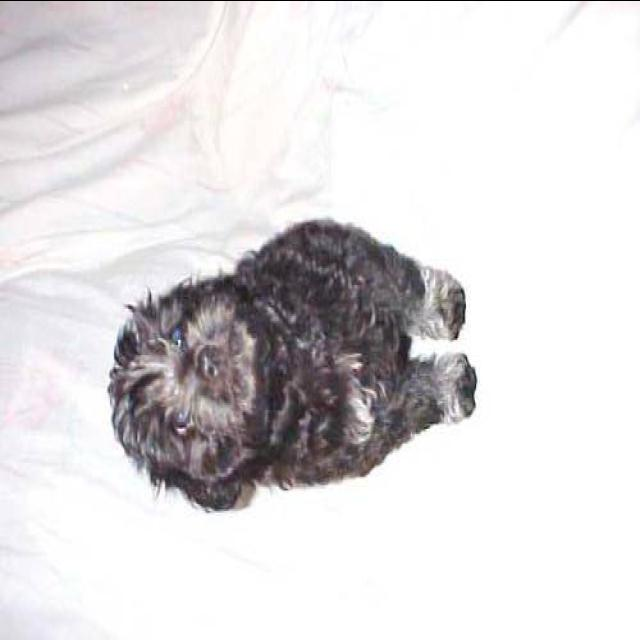dog: (86, 171, 490, 529)
